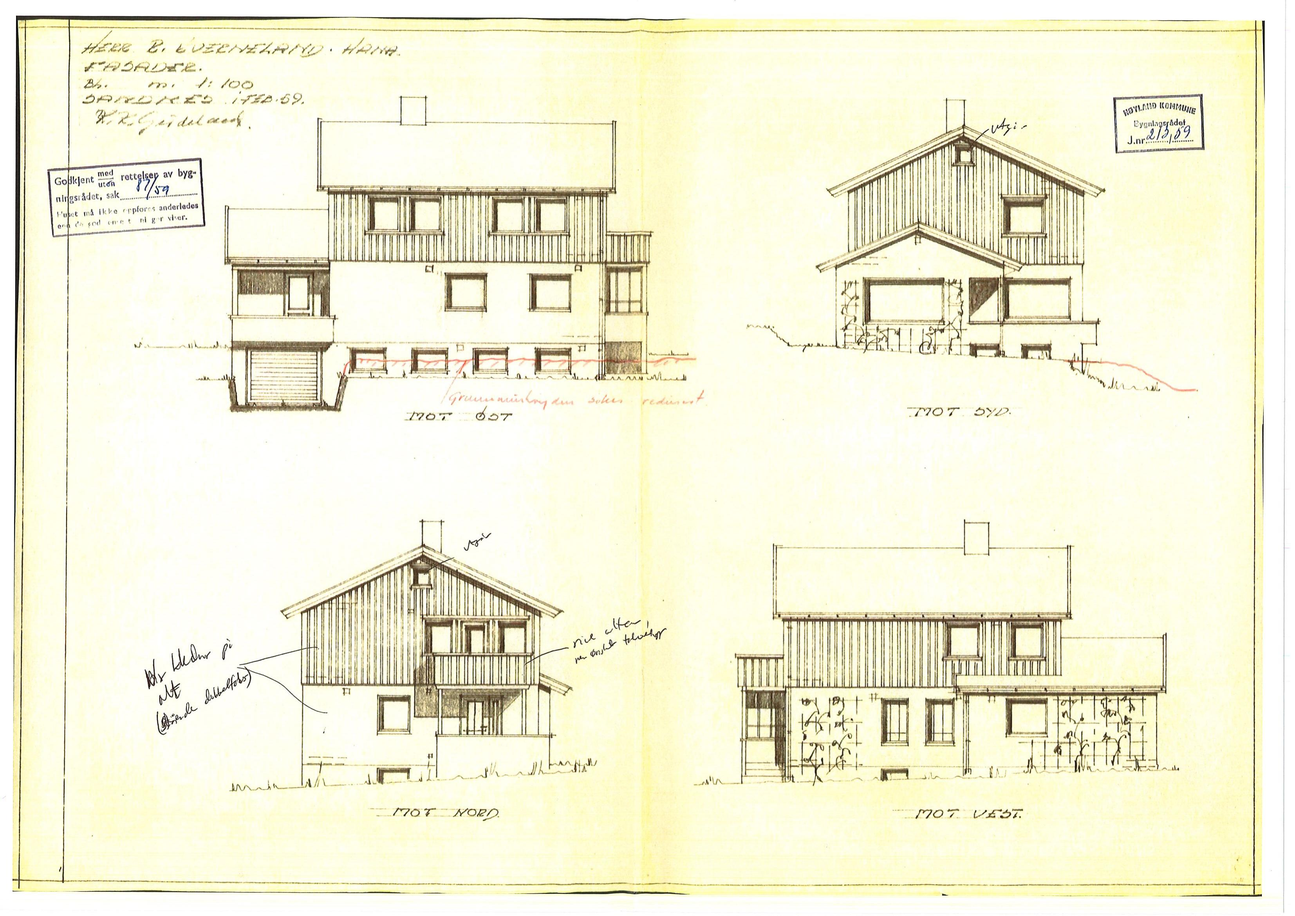fasade: (215, 94, 655, 414), (732, 519, 1169, 789), (802, 98, 1184, 395), (276, 517, 575, 793)
